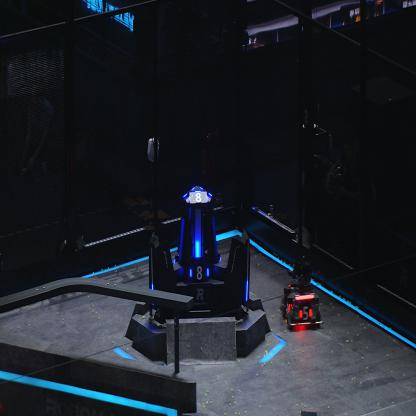car: (279, 260, 324, 330)
